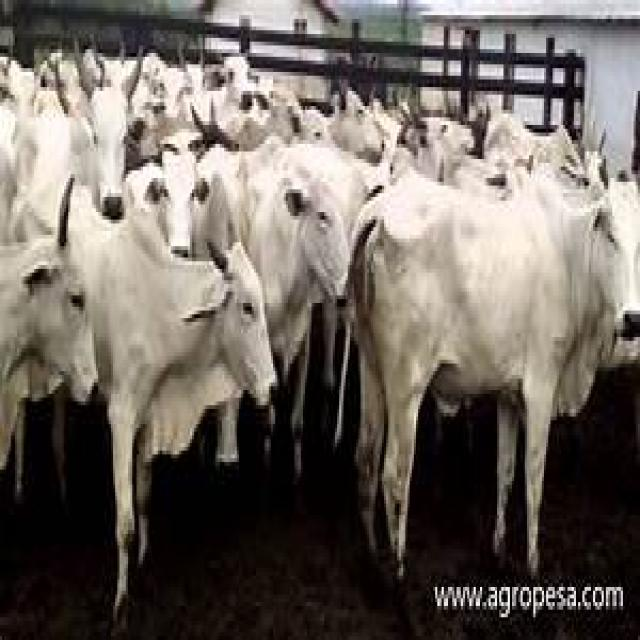cow: (0, 64, 380, 600), (350, 171, 614, 574), (68, 184, 275, 600), (242, 142, 373, 372), (0, 237, 98, 467)
